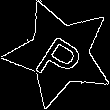P_NE: (30, 23, 89, 85)
